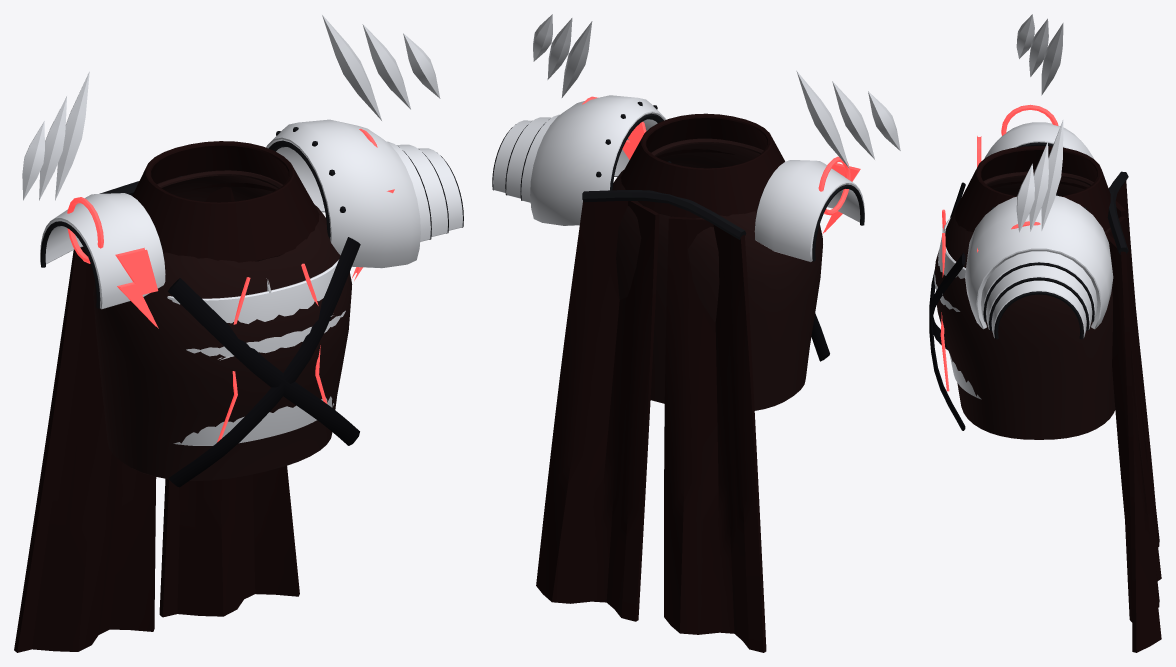
The model's file is esc_severance_armor.glb.
The picture shows the model from 3 angles, left to right: view 1: azimuth 30°, elevation 25°; view 2: azimuth 150°, elevation 25°; view 3: azimuth 270°, elevation 25°; orthographic projection. The views are drawn at different scales.
Parts seen in each view (by area): view 1: esc_severance_armor, AT_upper_arm_L, AT_upper_arm_R; view 2: esc_severance_armor, AT_upper_arm_L, AT_upper_arm_R; view 3: esc_severance_armor, AT_upper_arm_L, AT_upper_arm_R.
Part boxes in pixels (x1,y1,x2,y2): esc_severance_armor: [14, 15, 440, 652]; AT_upper_arm_L: [266, 119, 463, 280]; AT_upper_arm_R: [40, 193, 165, 328]; esc_severance_armor: [533, 14, 900, 652]; AT_upper_arm_L: [492, 95, 671, 225]; AT_upper_arm_R: [754, 160, 864, 261]; esc_severance_armor: [929, 14, 1161, 652]; AT_upper_arm_L: [965, 193, 1113, 339]; AT_upper_arm_R: [977, 122, 1093, 167].
Bounding box in the file's own units: 0.9469 × 1.31 × 0.5234.
